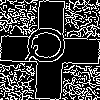Q: (25, 25, 74, 66)
